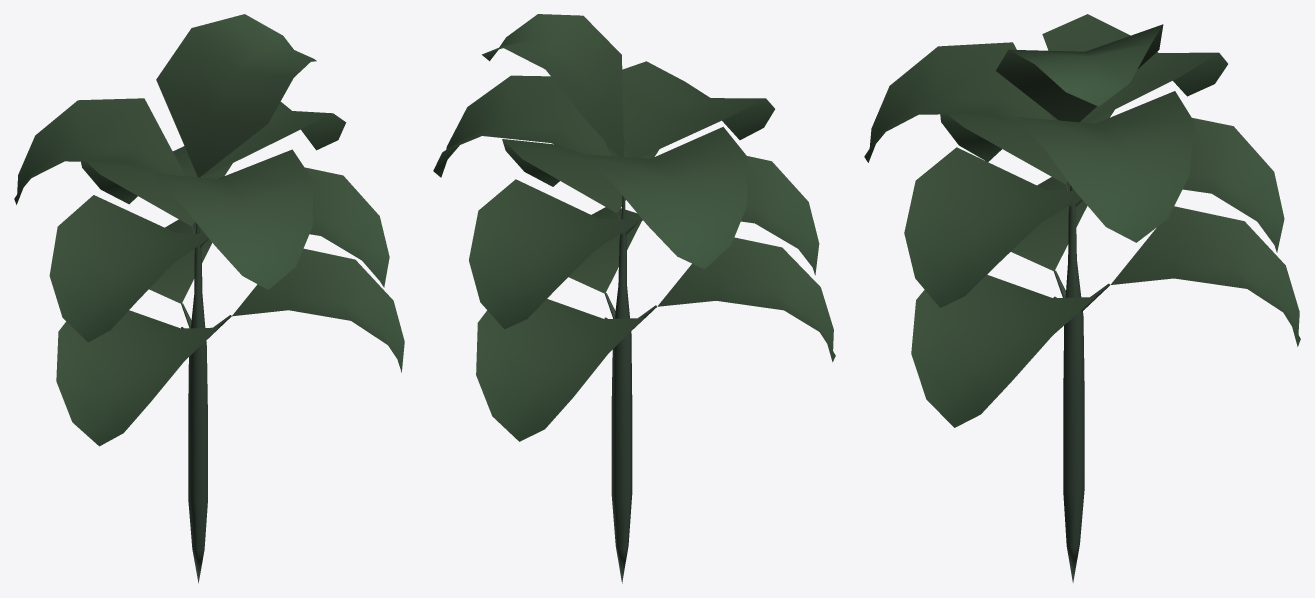
File: plants-leafy-plants-drooping-leaf-plant_v3.glb
3 views of the same model, side by side, from view 1: azimuth 30°, elevation 25°; view 2: azimuth 150°, elevation 25°; view 3: azimuth 270°, elevation 25° (orthographic). The views are drawn at different scales.
Visible parts, largest first — view 1: Drooping Leaf Plant_v3; view 2: Drooping Leaf Plant_v3; view 3: Drooping Leaf Plant_v3.
Boxes of the visible parts, x1,y1,x2,y2 form: Drooping Leaf Plant_v3: (14, 14, 404, 583); Drooping Leaf Plant_v3: (433, 14, 835, 583); Drooping Leaf Plant_v3: (864, 14, 1300, 582).
Bounding box in the file's own units: 0.3351 × 0.5 × 0.3383.
